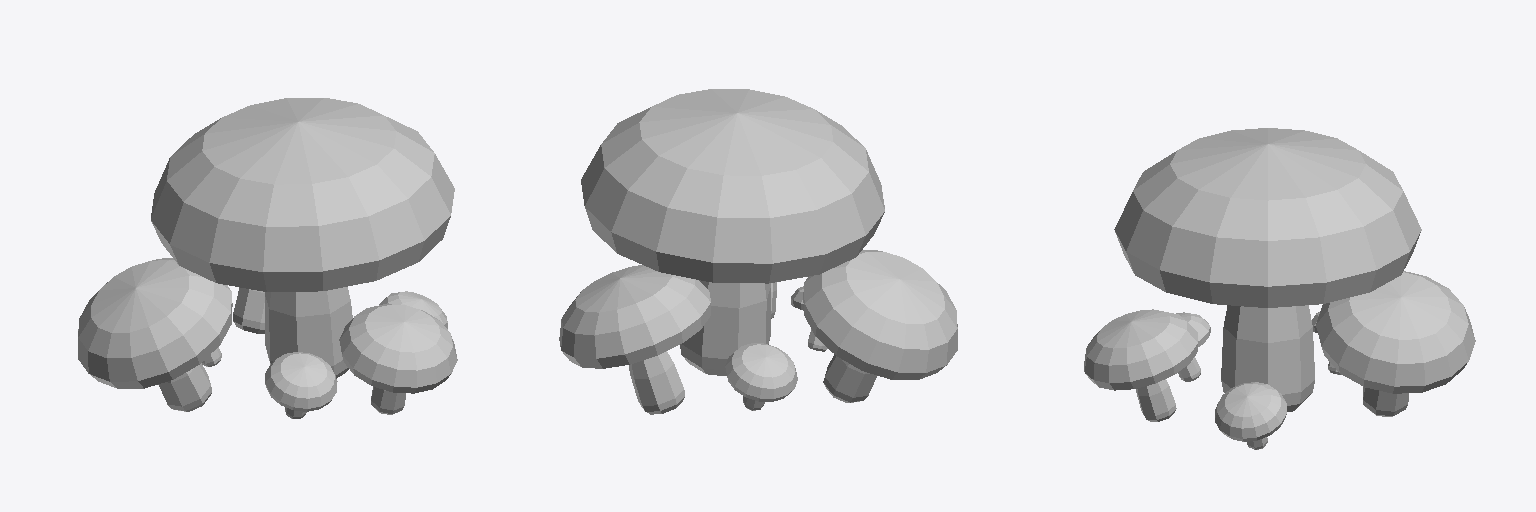
Rendered from Mushroom_01.obj.
3 views of the same model, side by side, from view 1: azimuth 30°, elevation 25°; view 2: azimuth 150°, elevation 25°; view 3: azimuth 270°, elevation 25° (orthographic).
Visible parts, largest first — view 1: Mushroom_01_Circle.045; view 2: Mushroom_01_Circle.045; view 3: Mushroom_01_Circle.045.
Boxes of the visible parts, x1,y1,x2,y2 form: Mushroom_01_Circle.045: [78, 98, 457, 418]; Mushroom_01_Circle.045: [559, 89, 957, 414]; Mushroom_01_Circle.045: [1084, 128, 1475, 449].
Size of the model in its own units: 0.6338 by 0.4517 by 0.6179.